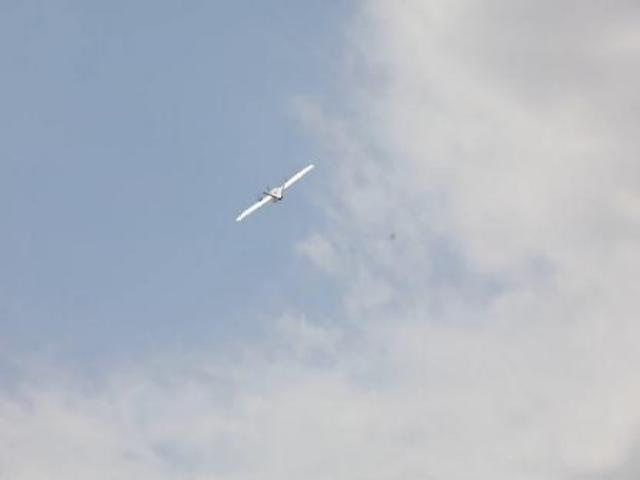uav: (234, 159, 314, 223)
